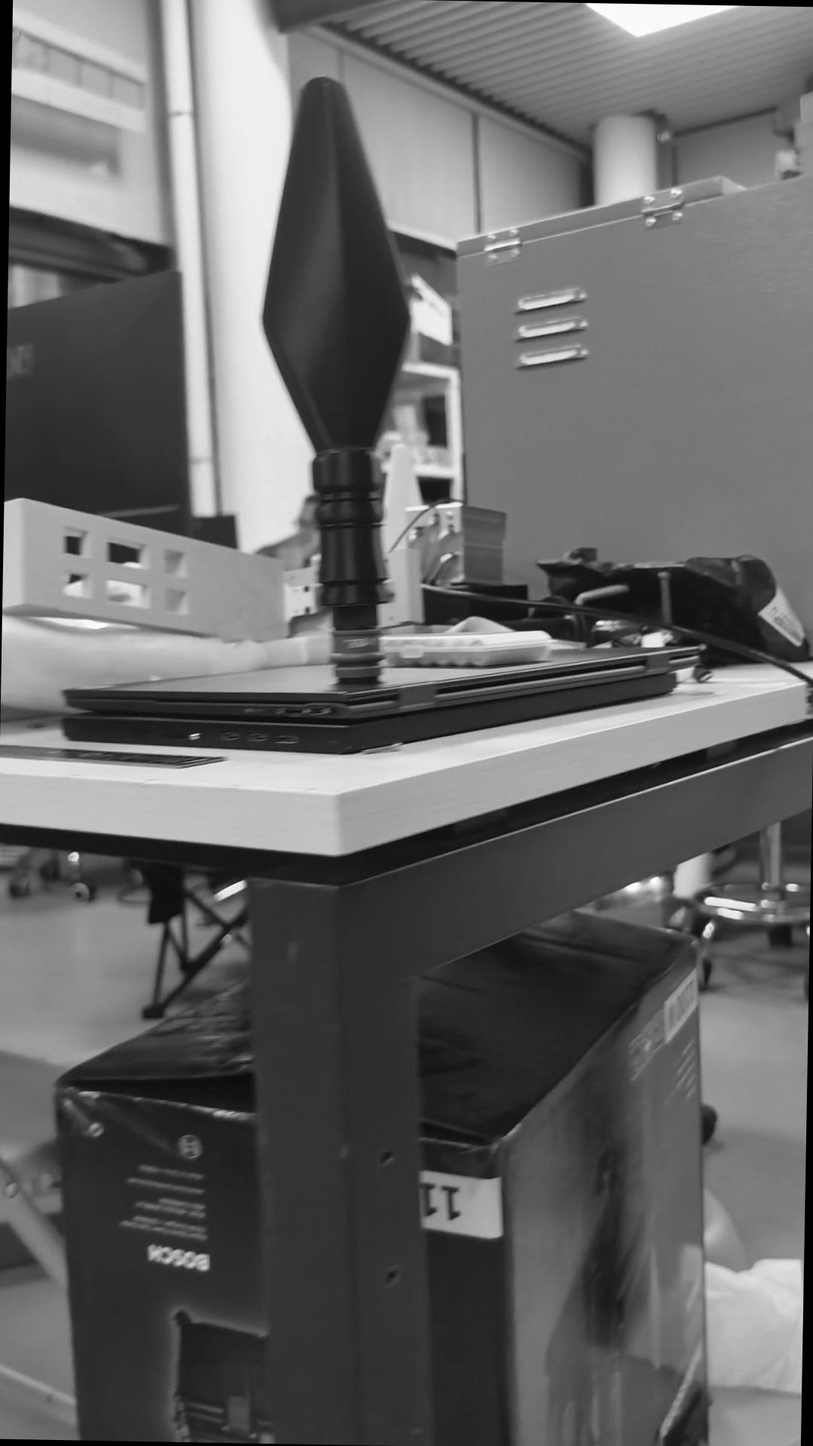base: (329, 627, 385, 680)
